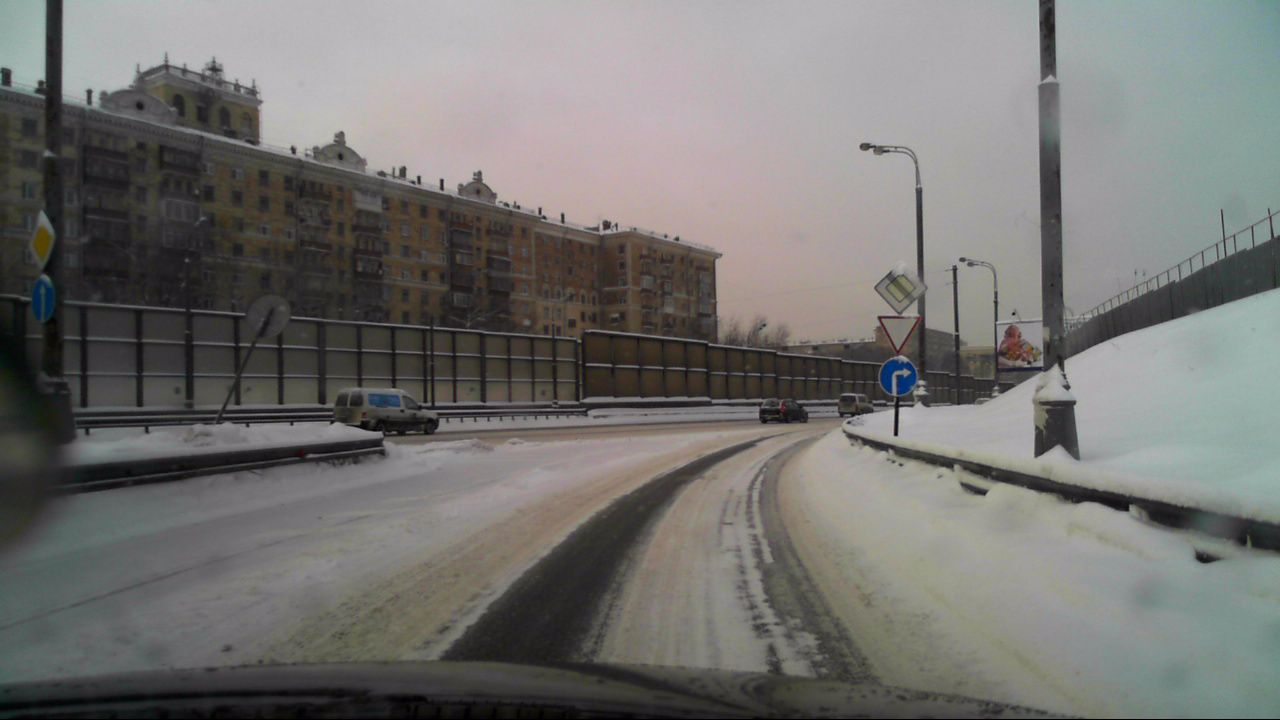main road: (874, 263, 926, 314)
